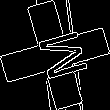M_W: (24, 26, 86, 84)
